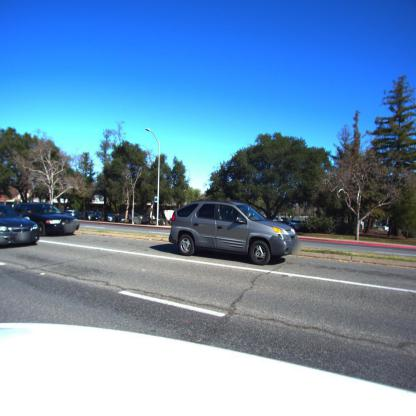car: (166, 201, 300, 266), (11, 202, 83, 237), (0, 202, 41, 247)
